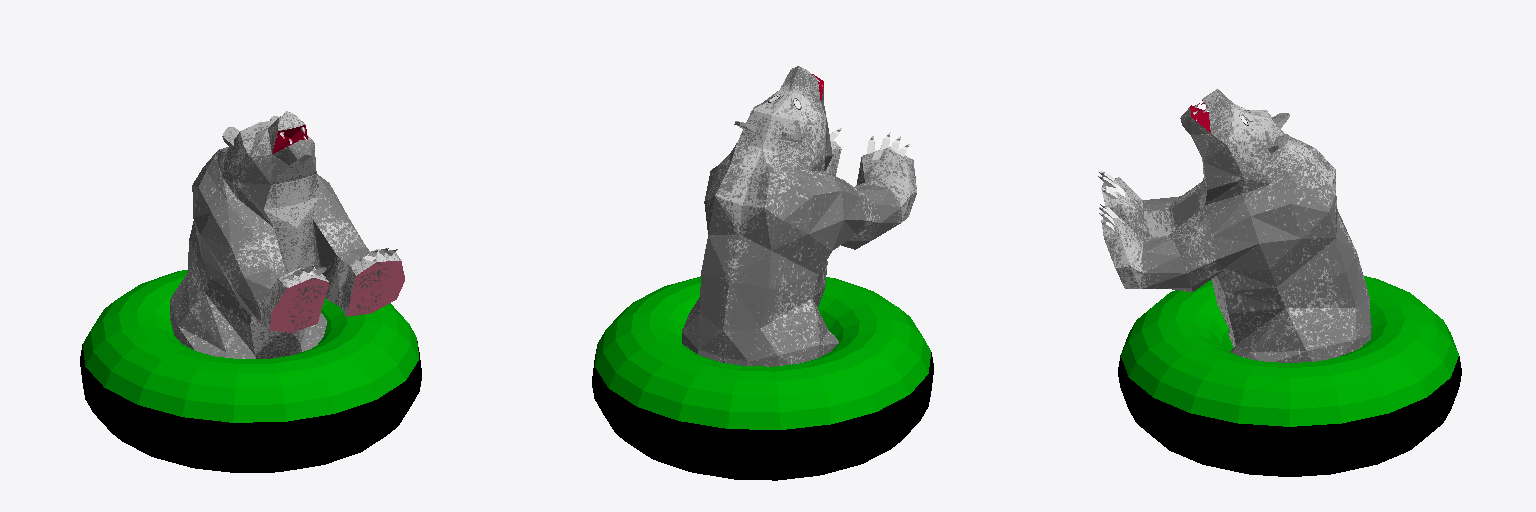
3 views of the same model, side by side, from view 1: azimuth 30°, elevation 25°; view 2: azimuth 150°, elevation 25°; view 3: azimuth 270°, elevation 25° (orthographic).
Visible parts, largest first — view 1: Warbear_1; view 2: Warbear_1; view 3: Warbear_1.
Part boxes in pixels (x1,y1,x2,y2): Warbear_1: (80,111,421,472); Warbear_1: (592,66,933,480); Warbear_1: (1098,89,1461,476).
Bounding box in the file's own units: 3 × 3.22 × 3.17.
1 materials, 1 textured.